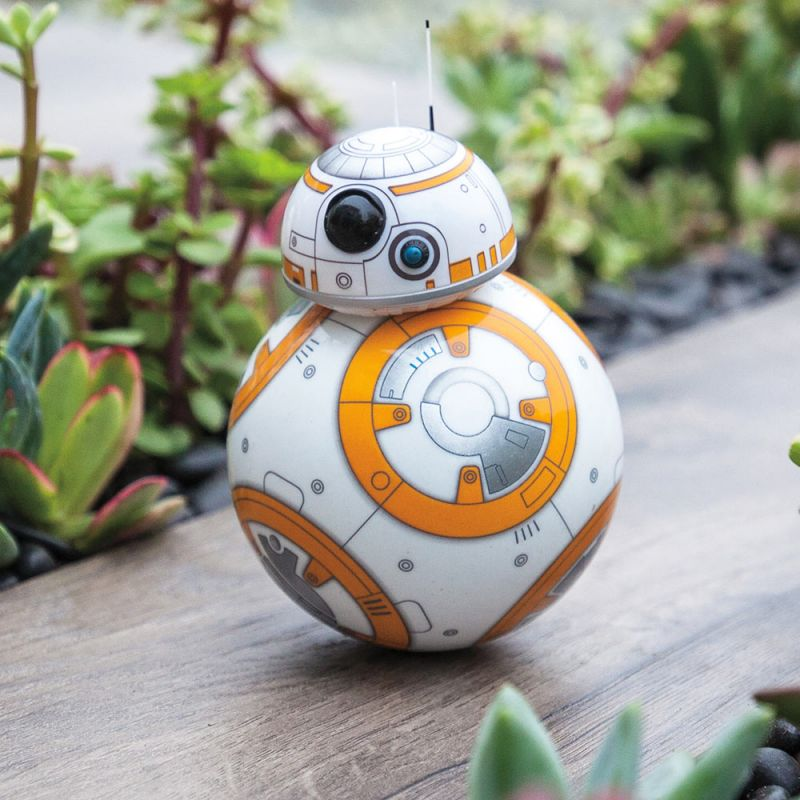bb8: (224, 126, 625, 652)
